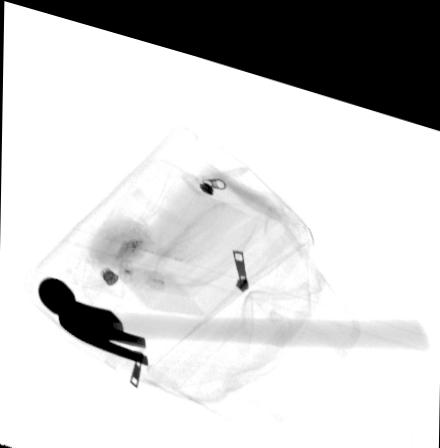Hammer: (35, 272, 430, 358)
